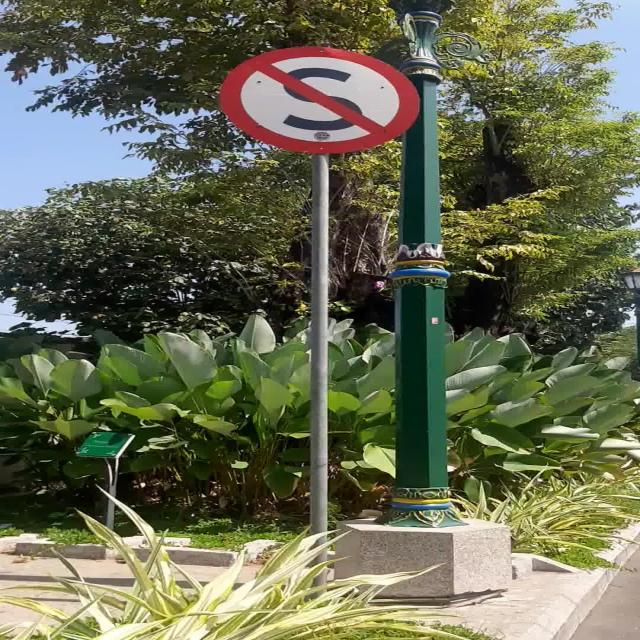Dilarang Berhenti: (220, 46, 420, 154)
